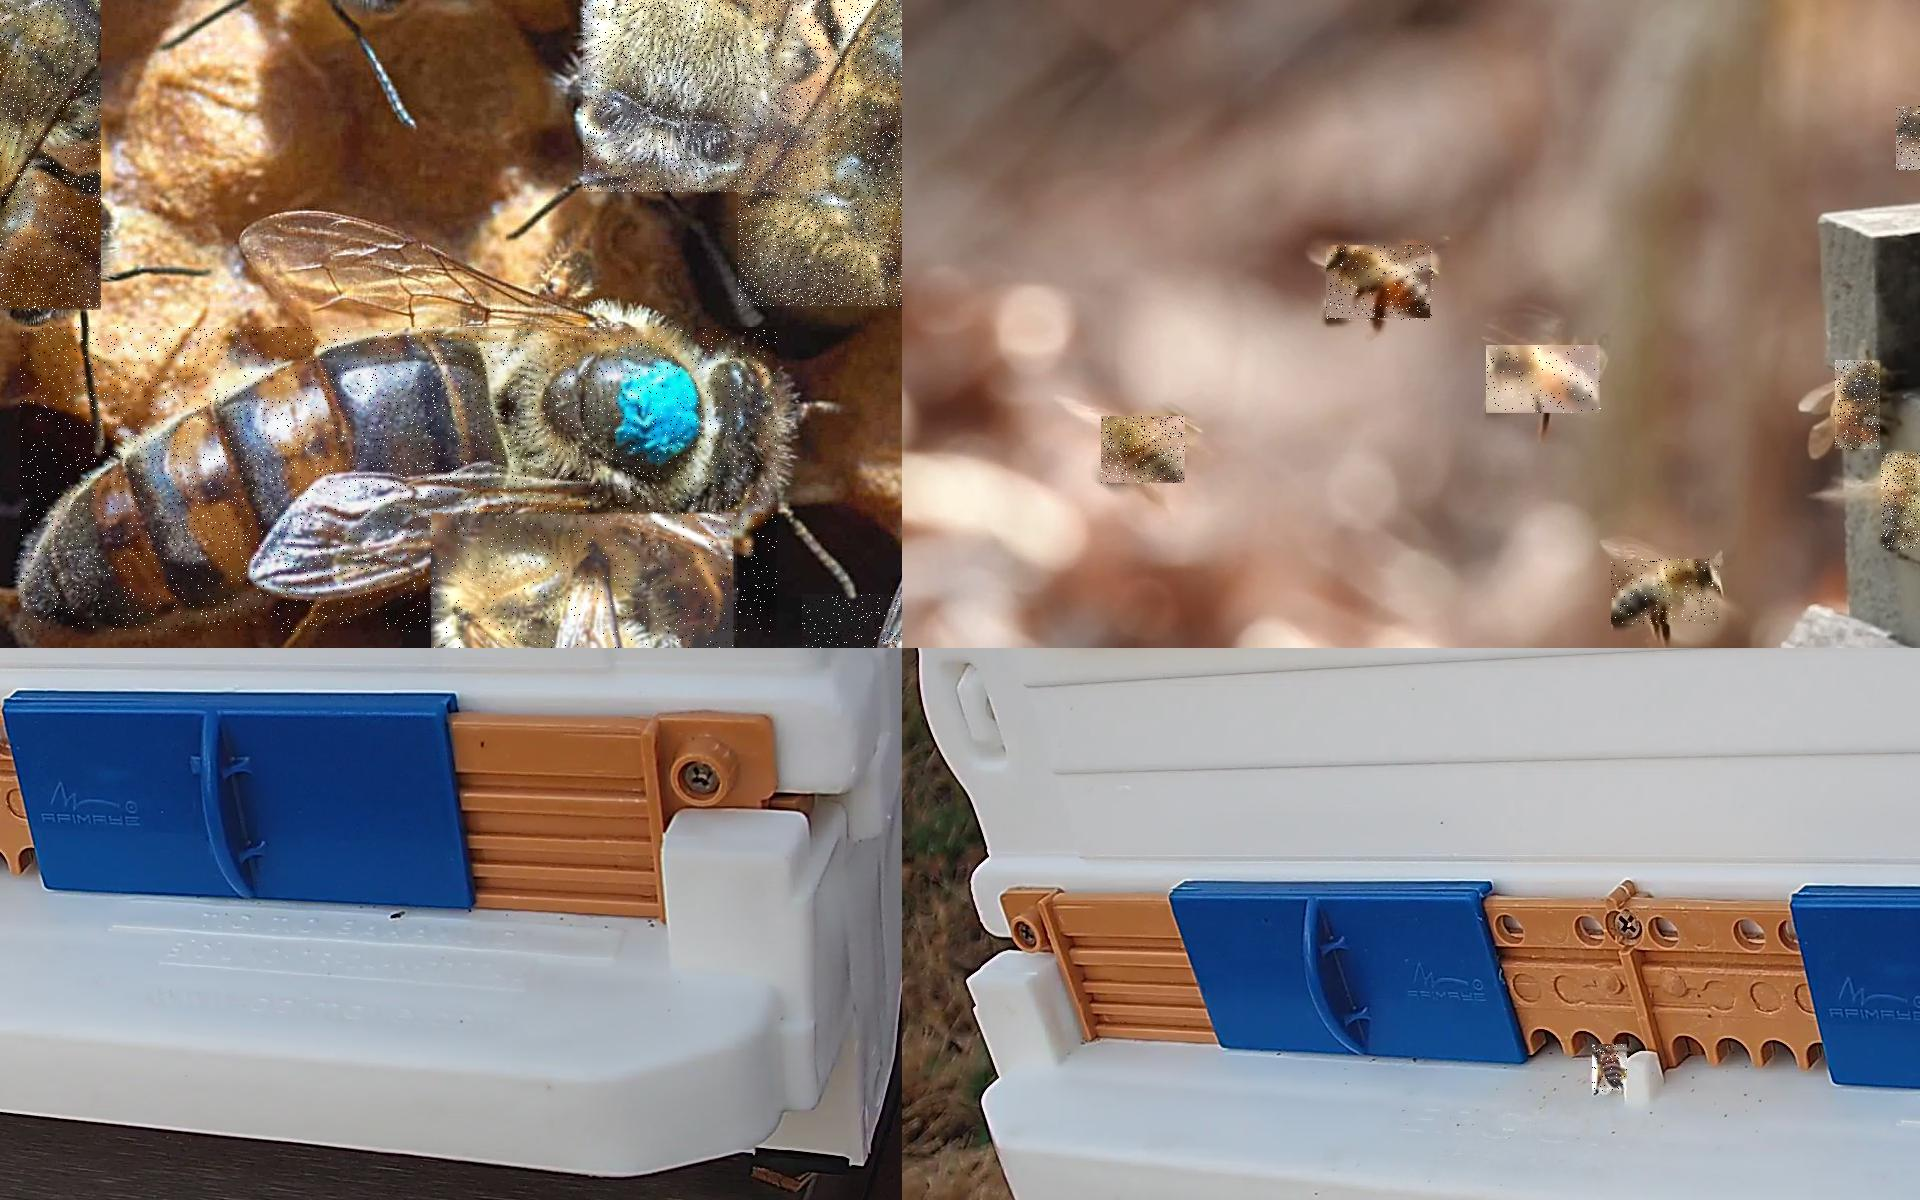bee: (738, 0, 901, 308), (583, 0, 828, 194), (431, 516, 738, 647), (0, 0, 104, 312), (1327, 246, 1435, 322), (1487, 346, 1603, 415), (1612, 560, 1721, 626), (1102, 416, 1186, 484), (1881, 453, 1919, 552), (1897, 106, 1919, 171)
pollenbee: (1836, 359, 1881, 449), (1592, 1045, 1628, 1094)
queen: (21, 328, 778, 633)
